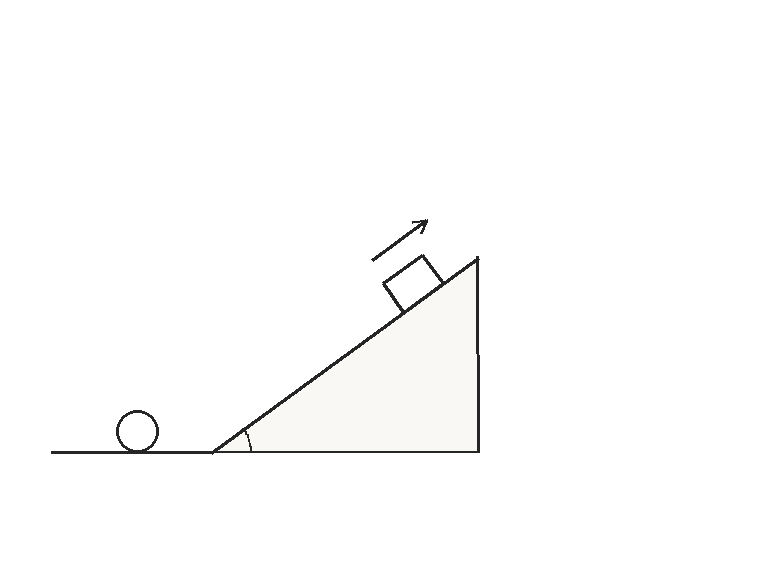ball: (114, 408, 160, 454)
block: (381, 253, 445, 314)
ramp: (209, 255, 481, 454)
